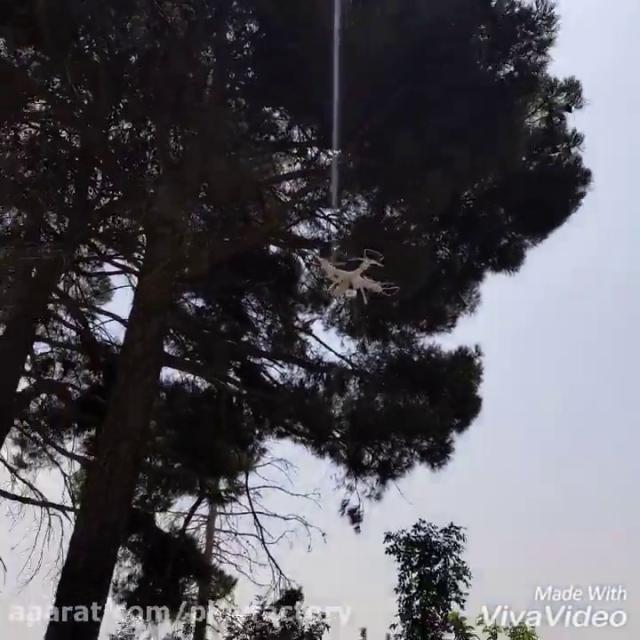drone: (311, 246, 400, 306)
